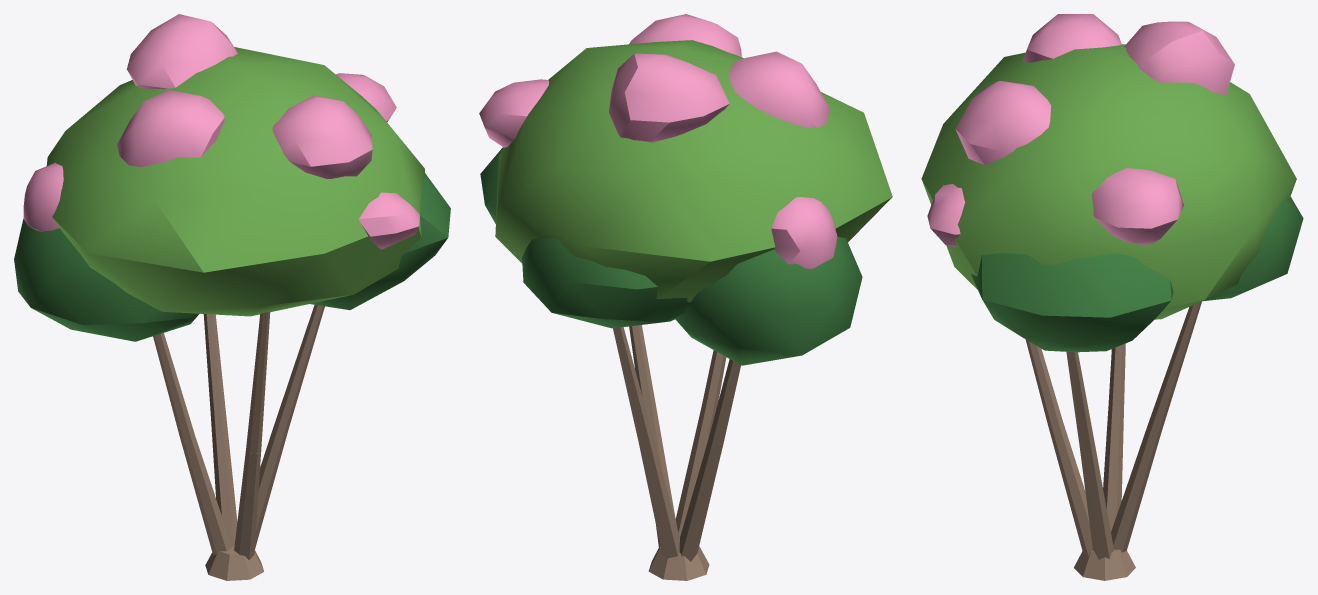
Rendered from tree_small.glb.
The picture shows the model from 3 angles, left to right: view 1: azimuth 30°, elevation 25°; view 2: azimuth 150°, elevation 25°; view 3: azimuth 270°, elevation 25°; orthographic projection. The views are drawn at different scales.
Parts seen in each view (by area): view 1: tree_small; view 2: tree_small; view 3: tree_small.
Boxes of the visible parts, x1,y1,x2,y2 form: tree_small: [14, 14, 450, 580]; tree_small: [479, 14, 892, 580]; tree_small: [921, 14, 1303, 580].
Bounding box in the file's own units: 4.49 × 6 × 3.87.
Materials: 1 (1 with a texture image).
